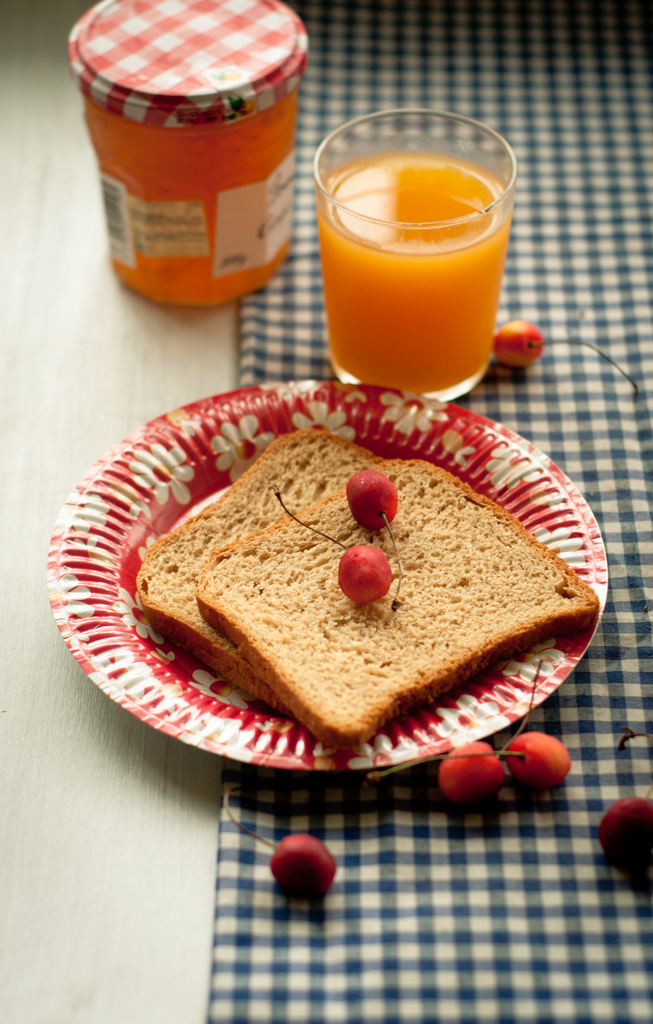slice of bread: (125, 422, 589, 744)
